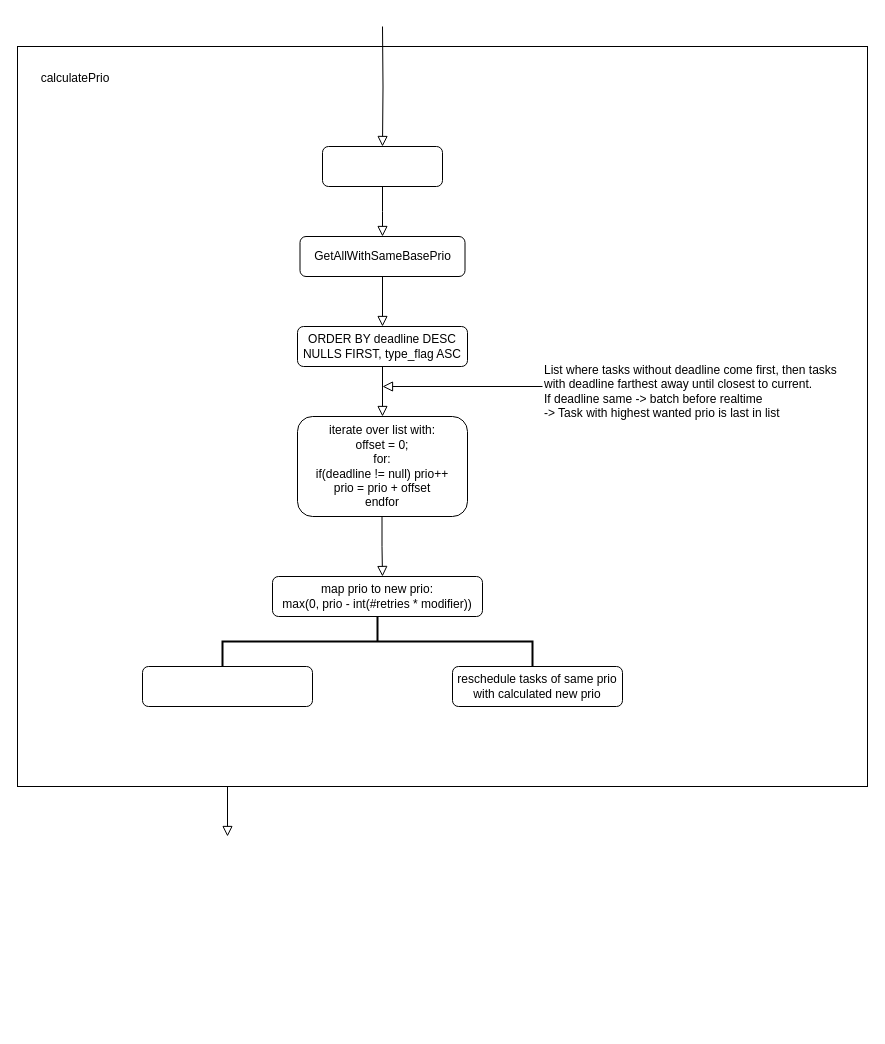
Image size: 885x1044. Some labels were removed from this diagram. The shapes that lost their labels are listed below. From the top down, each one's centre as x and y in pixels, then its label:
the point at 382,166: Base Priority
the point at 227,686: Return prio of task
